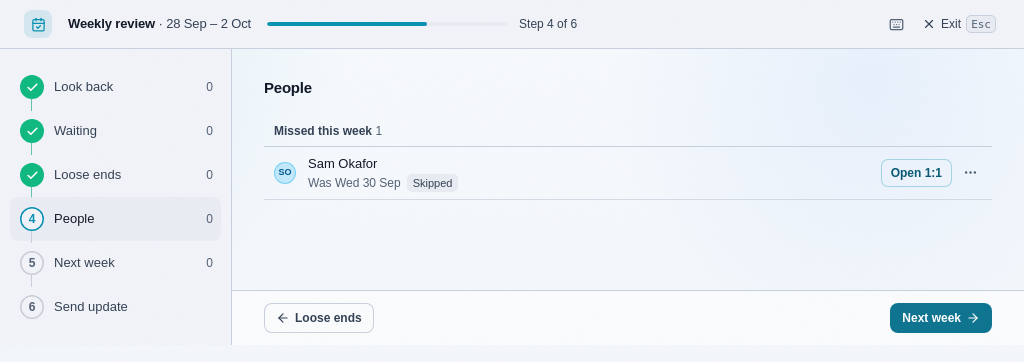
it: People step (docs/59 §5.3 step 4) › offers no skip for a session that is already skipped
This screenshot has width=1024, height=362.
Expected: the heading "People" is shown, [264,77,312,100]
Expected: the text "Skipped" is shown, [407,174,458,192]
Click the button named "More actions" at (970, 173), box [956,159,984,187]
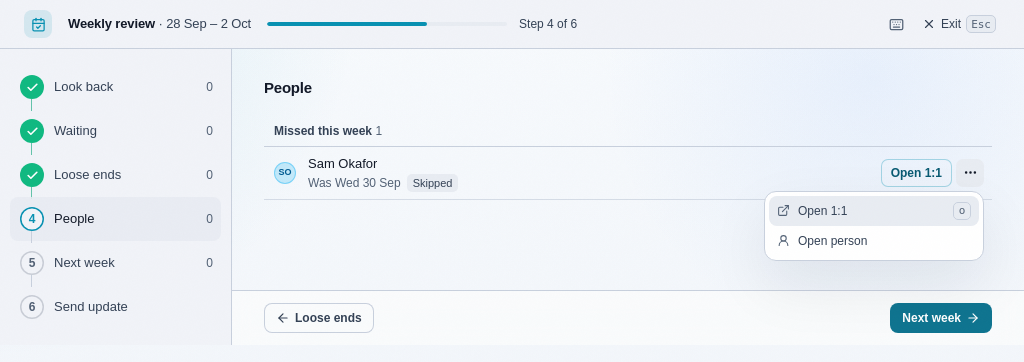
Result: the menu item "Open person" is shown at [769,226,979,256]
